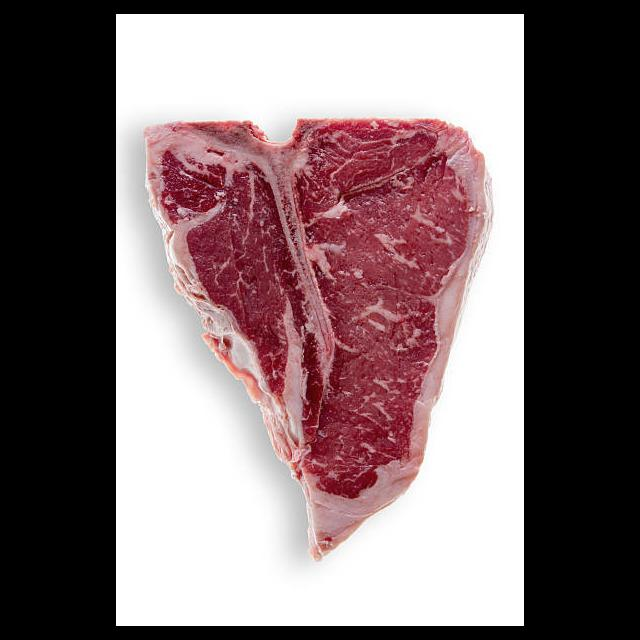beef: (140, 118, 497, 562)
